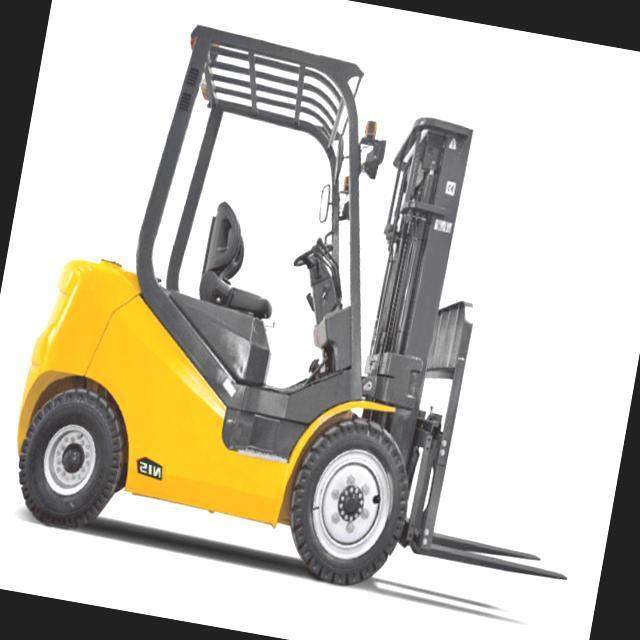forklift: (0, 0, 525, 627)
